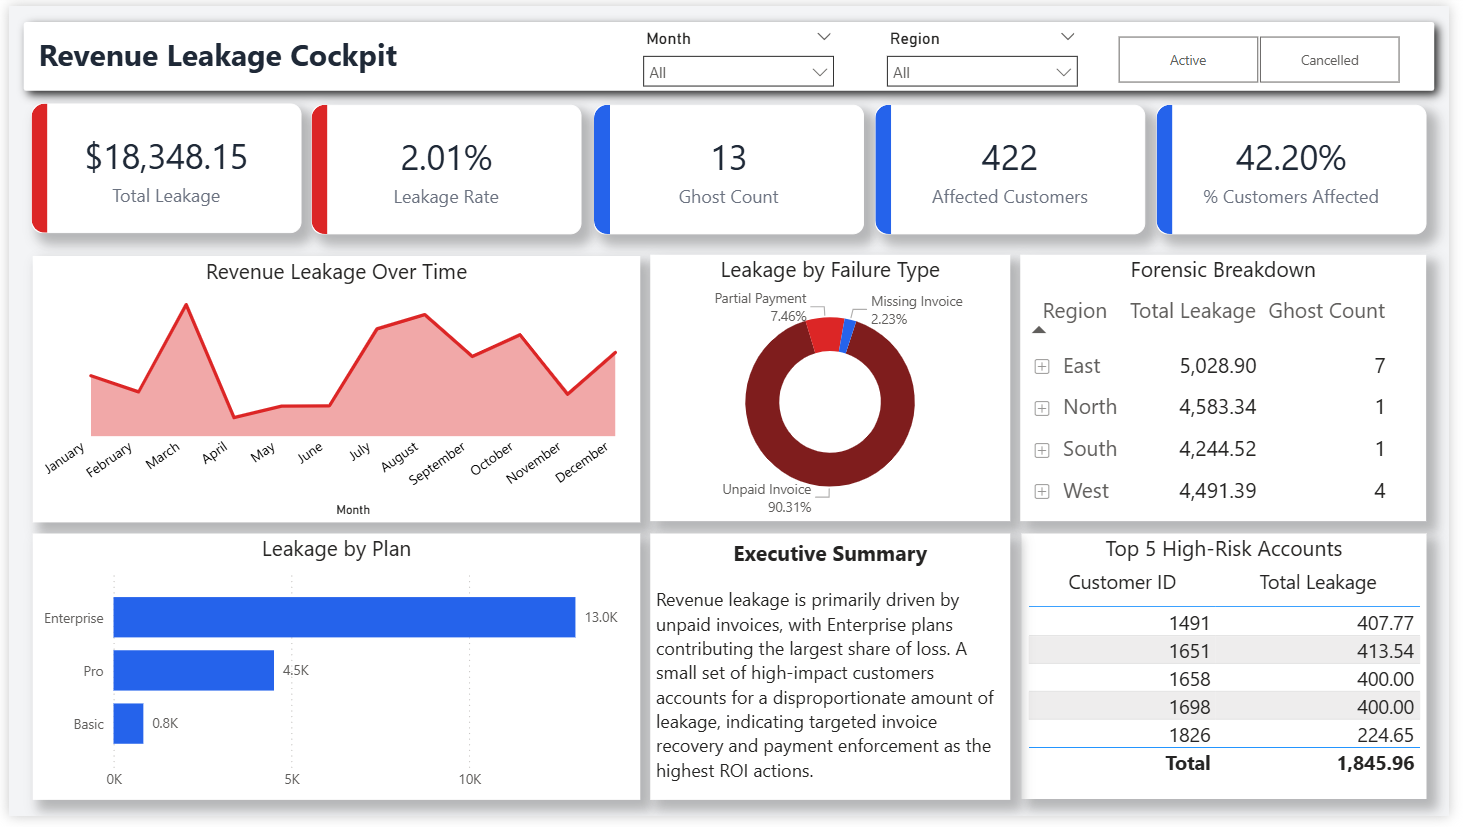

The page's visual inventory and layout, read from the dashboard file:
{"tool":"powerbi","page":{"name":"Home","canvas":[1280,720],"ordinal":0},"visuals":[{"type":"shape","title":"Header_Bar","box":[0,1.2,1280,87.5],"z":0},{"type":"card","title":"Total Leakage ($)","fields":{"Values":["_Key Measures.Total Leakage"]},"box":[20.1,87.2,239.9,114.9],"z":0,"group":"g2"},{"type":"card","title":"Total Leakage ($)","fields":{"Values":["_Key Measures.Leakage Rate"]},"box":[268.8,88.6,239.9,114.9],"z":0,"group":"g3"},{"type":"card","title":"Total Leakage ($)","fields":{"Values":["_Key Measures.Ghost Count"]},"box":[520.2,88.6,239.9,114.9],"z":0,"group":"g4"},{"type":"card","title":"Total Leakage ($)","fields":{"Values":["_Key Measures.Affected Customers"]},"box":[770.2,88.6,239.9,114.9],"z":0,"group":"g5"},{"type":"card","title":"Total Leakage ($)","fields":{"Values":["_Key Measures.% Customers Affected"]},"box":[1020.2,88.6,239.9,114.9],"z":0,"group":"g6"},{"type":"textbox","title":"Title","box":[21.1,20,346.7,50],"z":1000},{"type":"shape","box":[20,87.1,14.2,115],"z":1000,"group":"g2"},{"type":"shape","box":[268.7,88.5,14.2,115],"z":1000,"group":"g3"},{"type":"shape","box":[520.1,88.5,14.2,115],"z":1000,"group":"g4"},{"type":"shape","box":[770.1,88.5,14.2,115],"z":1000,"group":"g5"},{"type":"shape","box":[1020.1,88.5,14.2,115],"z":1000,"group":"g6"},{"type":"group","id":"g1","title":"Group 2","box":[20,87.1,1240,117.1],"z":2000},{"type":"group","id":"g2","title":"Group 1","box":[20,87.1,239.7,115.6],"z":2000,"group":"g1"},{"type":"group","id":"g3","title":"Group 1","box":[268.7,88.5,240,115.7],"z":3000,"group":"g1"},{"type":"areaChart","title":"Revenue Leakage Over Time","fields":{"Category":["dashboard_master.record_date.Variation.Date Hierarchy.Month","dashboard_master.record_date.Variation.Date Hierarchy.Day"],"Y":["_Key Measures.Total Leakage"]},"box":[21.4,221.9,540,237.1],"z":3000},{"type":"group","id":"g4","title":"Group 1","box":[520.1,88.5,240,115.7],"z":4000,"group":"g1"},{"type":"donutChart","title":"Leakage by Failure Type","fields":{"Category":["dashboard_master.status_label"],"Y":["_Key Measures.Total Leakage"]},"box":[570,221.4,320,237.1],"z":4000},{"type":"group","id":"g5","title":"Group 1","box":[770.1,88.5,240,115.7],"z":5000,"group":"g1"},{"type":"barChart","title":"Leakage by Plan","fields":{"Category":["dashboard_master.plan_name"],"Y":["_Key Measures.Total Leakage"]},"box":[21.4,468.6,540,237],"z":5000},{"type":"group","id":"g6","title":"Group 1","box":[1020.1,88.5,240,115.7],"z":6000,"group":"g1"},{"type":"pivotTable","title":"Forensic Breakdown","fields":{"Rows":["dashboard_master.region","dashboard_master.plan_name","dashboard_master.subscription_status"],"Values":["_Key Measures.Total Leakage","_Key Measures.Ghost Count"]},"box":[899.3,221.4,360.7,237.1],"z":6000},{"type":"tableEx","title":"Top 5 High-Risk Accounts","fields":{"Values":["dashboard_master.customer_id","_Key Measures.Total Leakage"]},"box":[900,469.2,360,235.8],"z":7000},{"type":"slicer","fields":{"Values":["dashboard_master.record_date.Variation.Date Hierarchy.Month"]},"box":[553.8,15,190,60],"z":8000,"group":"g7"},{"type":"slicer","fields":{"Values":["dashboard_master.region"]},"box":[770,15,190,60],"z":9000,"group":"g7"},{"type":"slicer","fields":{"Values":["dashboard_master.subscription_status"]},"box":[960,20,300,55],"z":9001},{"type":"group","id":"g7","title":"Group 3","box":[553.8,15,406.2,60],"z":9002},{"type":"textbox","box":[570,469,320,237],"z":9003}]}

Visuals, with their boxes in screenshot pixels (x1, y1, x2, y2), scaled from the page's 1280x720 canvas onto the 1463x827 screenshot:
"Header_Bar" shape: crop(0, 1, 1462, 102)
"Total Leakage ($)" card: crop(23, 100, 297, 232)
"Total Leakage ($)" card: crop(307, 102, 581, 234)
"Total Leakage ($)" card: crop(595, 102, 869, 234)
"Total Leakage ($)" card: crop(880, 102, 1155, 234)
"Total Leakage ($)" card: crop(1166, 102, 1440, 234)
"Title" textbox: crop(24, 23, 420, 80)
shape: crop(23, 100, 39, 232)
shape: crop(307, 102, 323, 234)
shape: crop(594, 102, 611, 234)
shape: crop(880, 102, 896, 234)
shape: crop(1166, 102, 1182, 234)
"Group 2" group: crop(23, 100, 1440, 235)
"Group 1" group: crop(23, 100, 297, 233)
"Group 1" group: crop(307, 102, 581, 235)
"Revenue Leakage Over Time" areaChart: crop(24, 255, 642, 527)
"Group 1" group: crop(594, 102, 869, 235)
"Leakage by Failure Type" donutChart: crop(651, 254, 1017, 527)
"Group 1" group: crop(880, 102, 1155, 235)
"Leakage by Plan" barChart: crop(24, 538, 642, 810)
"Group 1" group: crop(1166, 102, 1440, 235)
"Forensic Breakdown" pivotTable: crop(1028, 254, 1440, 527)
"Top 5 High-Risk Accounts" tableEx: crop(1029, 539, 1440, 810)
slicer - dashboard_master.record_date.Variation.Date Hierarchy.Month: crop(633, 17, 850, 86)
slicer - dashboard_master.region: crop(880, 17, 1097, 86)
slicer - dashboard_master.subscription_status: crop(1097, 23, 1440, 86)
"Group 3" group: crop(633, 17, 1097, 86)
textbox: crop(651, 539, 1017, 811)
